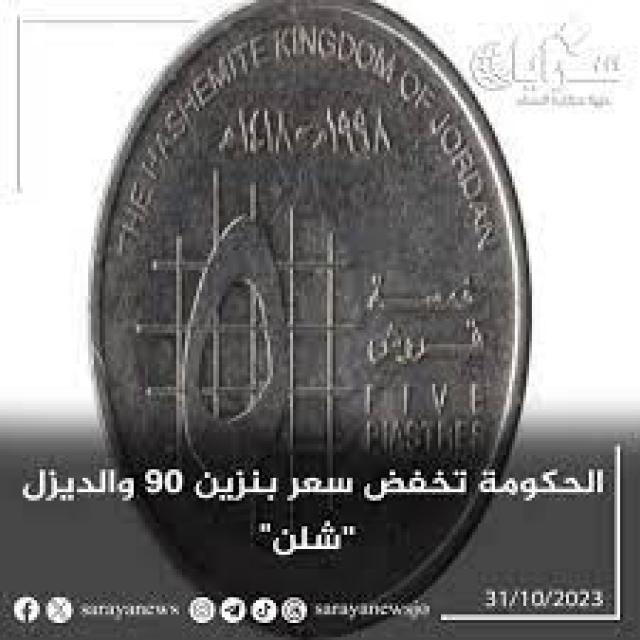5-coins: (84, 3, 533, 635)
